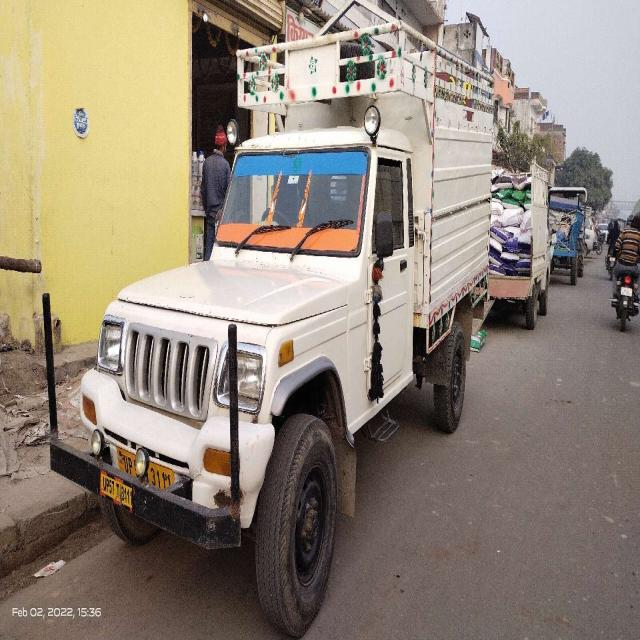light_vehicle: (83, 47, 493, 527)
